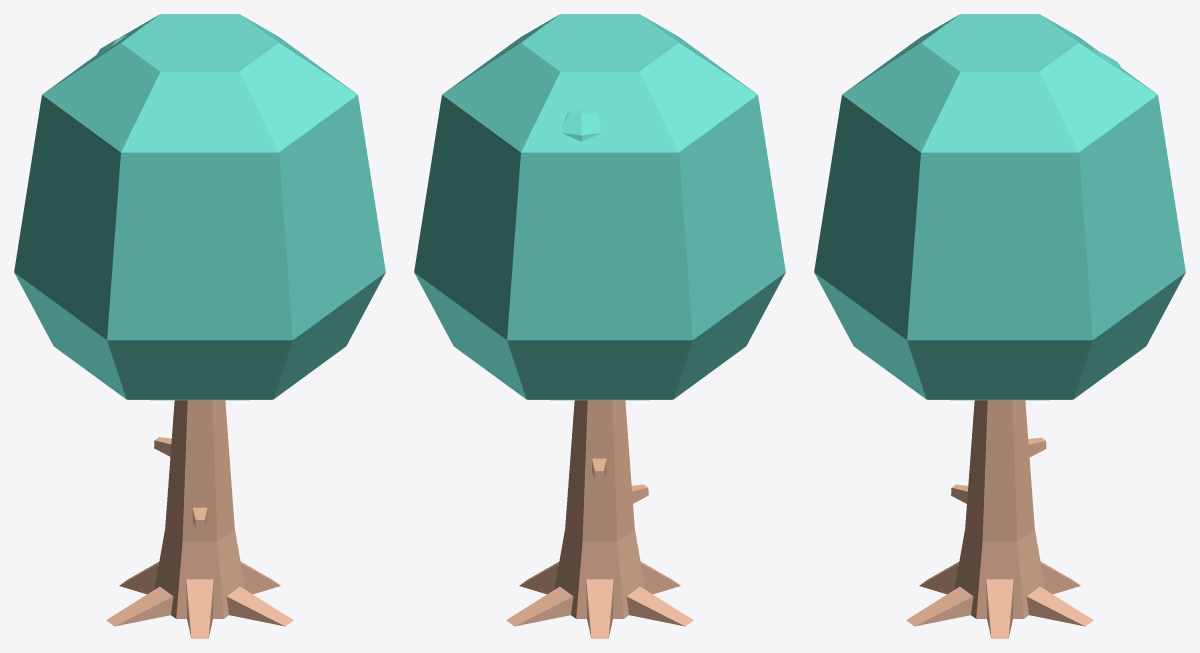
The model's file is tree_oak.glb.
3 views of the same model, side by side, from view 1: azimuth 30°, elevation 25°; view 2: azimuth 150°, elevation 25°; view 3: azimuth 270°, elevation 25° (orthographic).
Visible parts, largest first — view 1: tree_oak; view 2: tree_oak; view 3: tree_oak.
Boxes of the visible parts, left/top/right/bottom form: tree_oak: left=14, top=14, right=385, bottom=638; tree_oak: left=414, top=14, right=785, bottom=638; tree_oak: left=814, top=14, right=1185, bottom=638.
Size of the model in its own units: 0.6406 by 1.23 by 0.7396.
